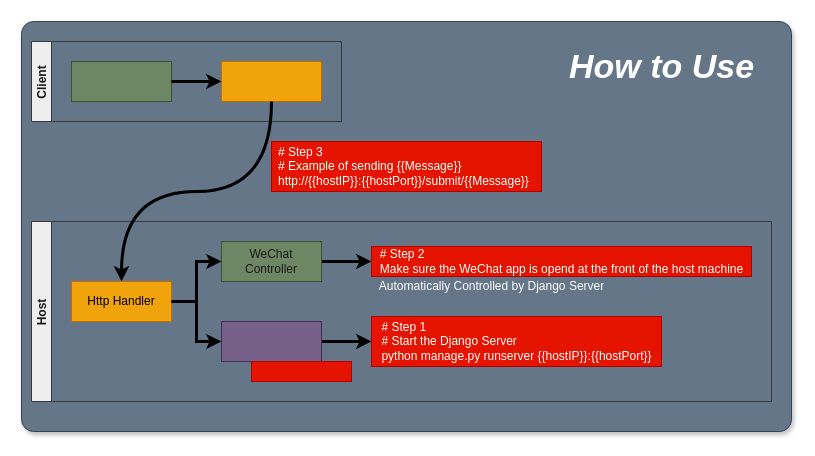
Image size: 815x456. Some labels were removed from this diagram. Each missing label, with the centre of its shape:
"Django Server" belongs at point 271,341.
"hostIP, hostPort" belongs at point 301,371.
"Http Request" belongs at point 271,81.
"Send Message" belongs at point 121,81.
